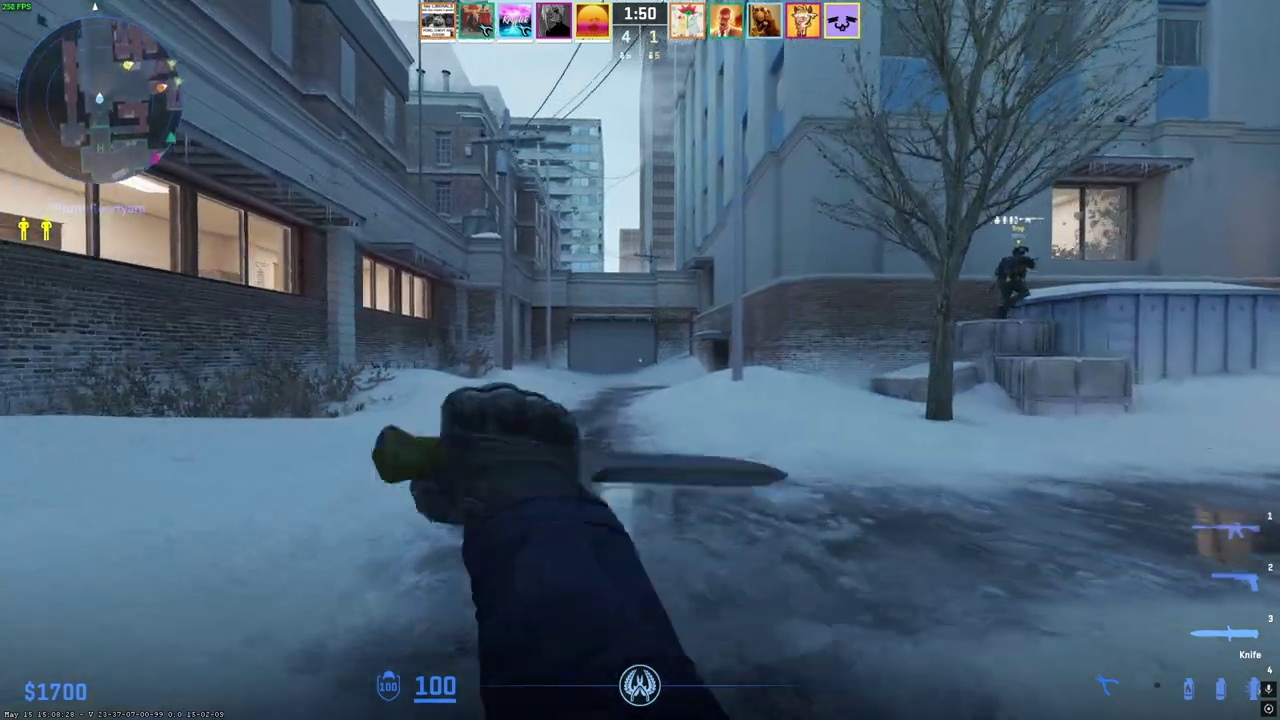CT: (994, 246, 1035, 317)
